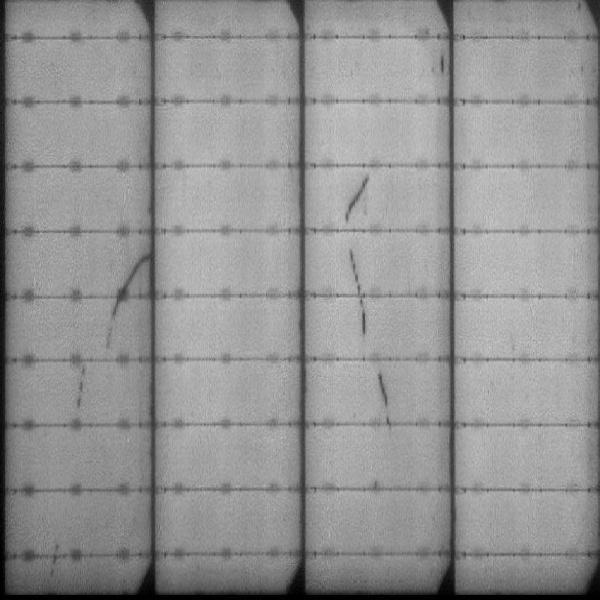scratch: (109, 253, 147, 322), (346, 248, 371, 335), (376, 369, 392, 430), (347, 175, 367, 221), (49, 541, 58, 575), (438, 50, 446, 84)
